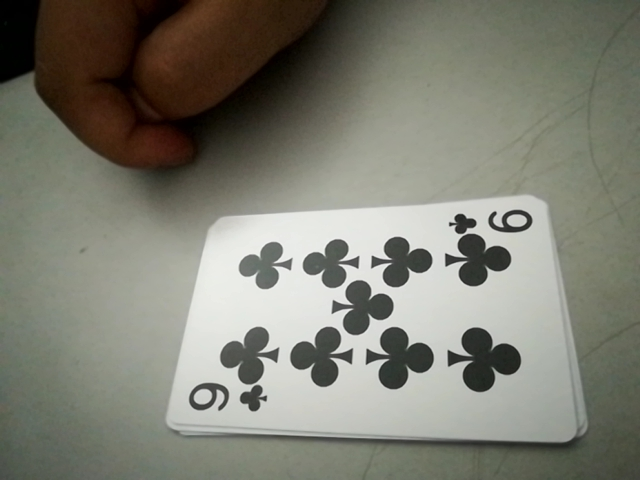mh 9: (179, 378, 270, 425), (447, 202, 540, 239)
